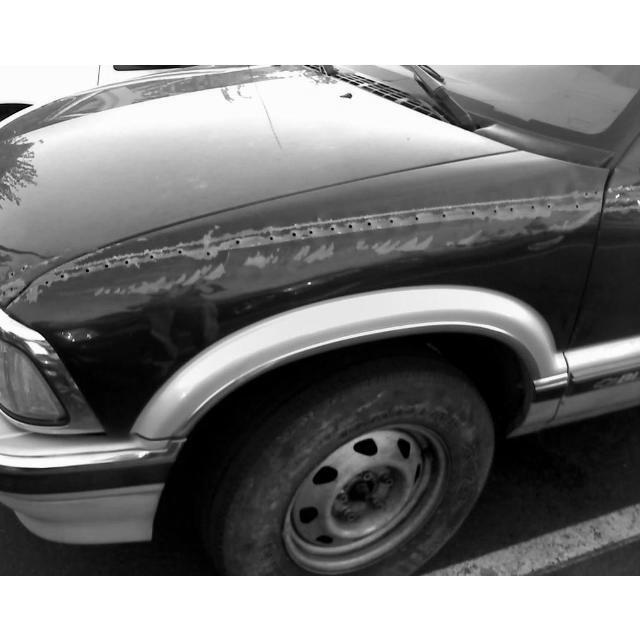fender-dent: (81, 170, 639, 388)
